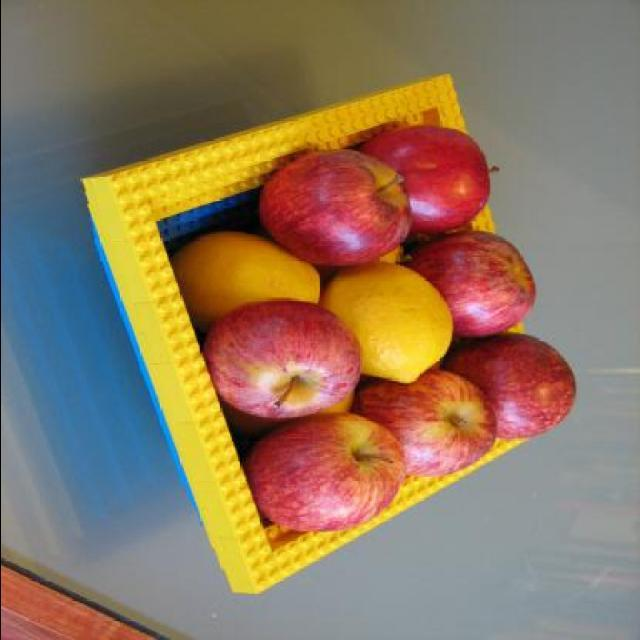Apple pie: (200, 122, 577, 478), (238, 419, 400, 530)
